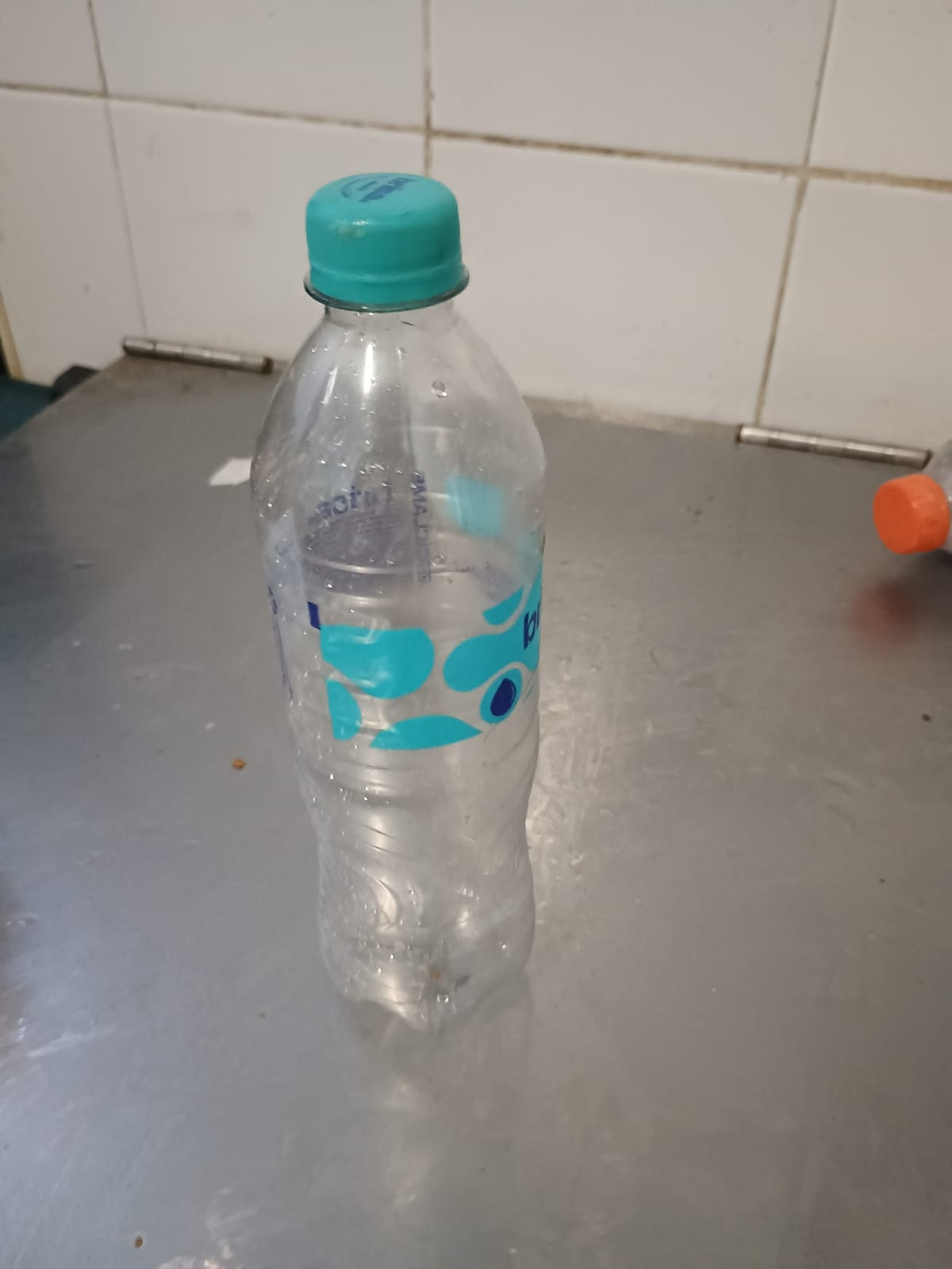Plastico: (251, 170, 551, 1032)
